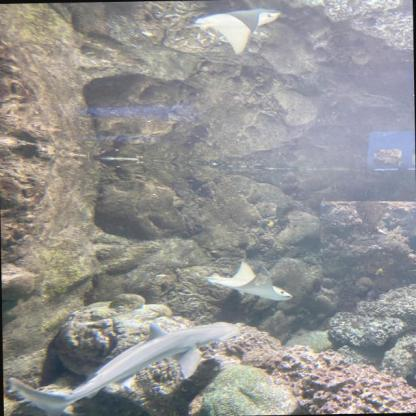shark: (8, 320, 240, 416)
stingray: (194, 7, 281, 54), (207, 260, 292, 306)
